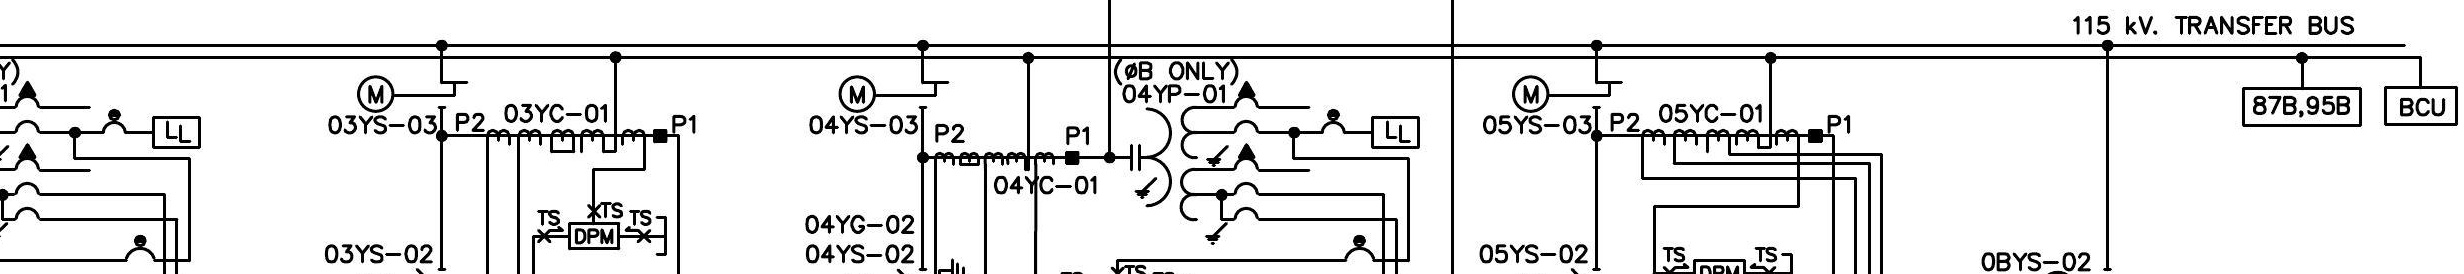115_1way_ds_w_motor: (1510, 74, 1625, 113), (357, 74, 470, 113), (838, 74, 951, 113)
115_cvt_1p: (1130, 80, 1262, 246)
BCU: (2384, 85, 2459, 126)
DPM: (567, 222, 621, 250)
LL: (151, 115, 201, 150), (1370, 115, 1421, 150)
